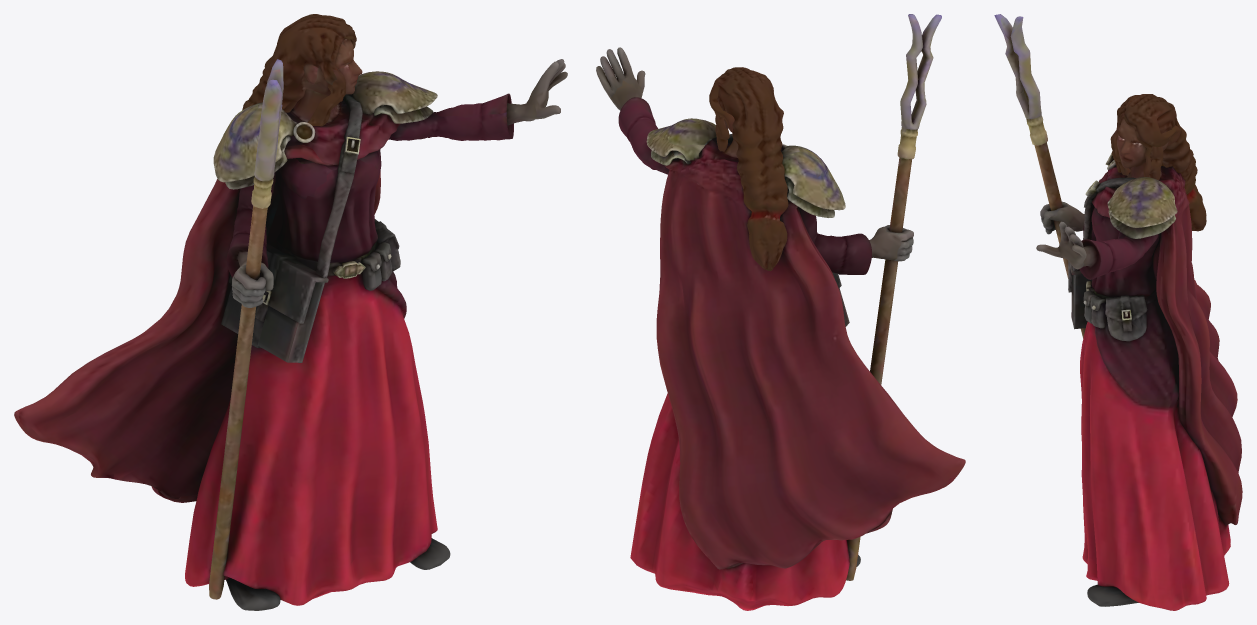
The model's file is MZ4250 - Human Female Abjuration Wizard_1.glb.
3 views of the same model, side by side, from view 1: azimuth 30°, elevation 25°; view 2: azimuth 150°, elevation 25°; view 3: azimuth 270°, elevation 25° (orthographic). The views are drawn at different scales.
Parts seen in each view (by area): view 1: Cube.002; view 2: Cube.002; view 3: Cube.002.
Part boxes in pixels (bbox=[...]): Cube.002: bbox=[14, 14, 567, 610]; Cube.002: bbox=[596, 14, 965, 610]; Cube.002: bbox=[994, 14, 1242, 610].
Size of the model in its own units: 82.16 by 98.91 by 42.75.
Materials: 1 (1 with a texture image).
